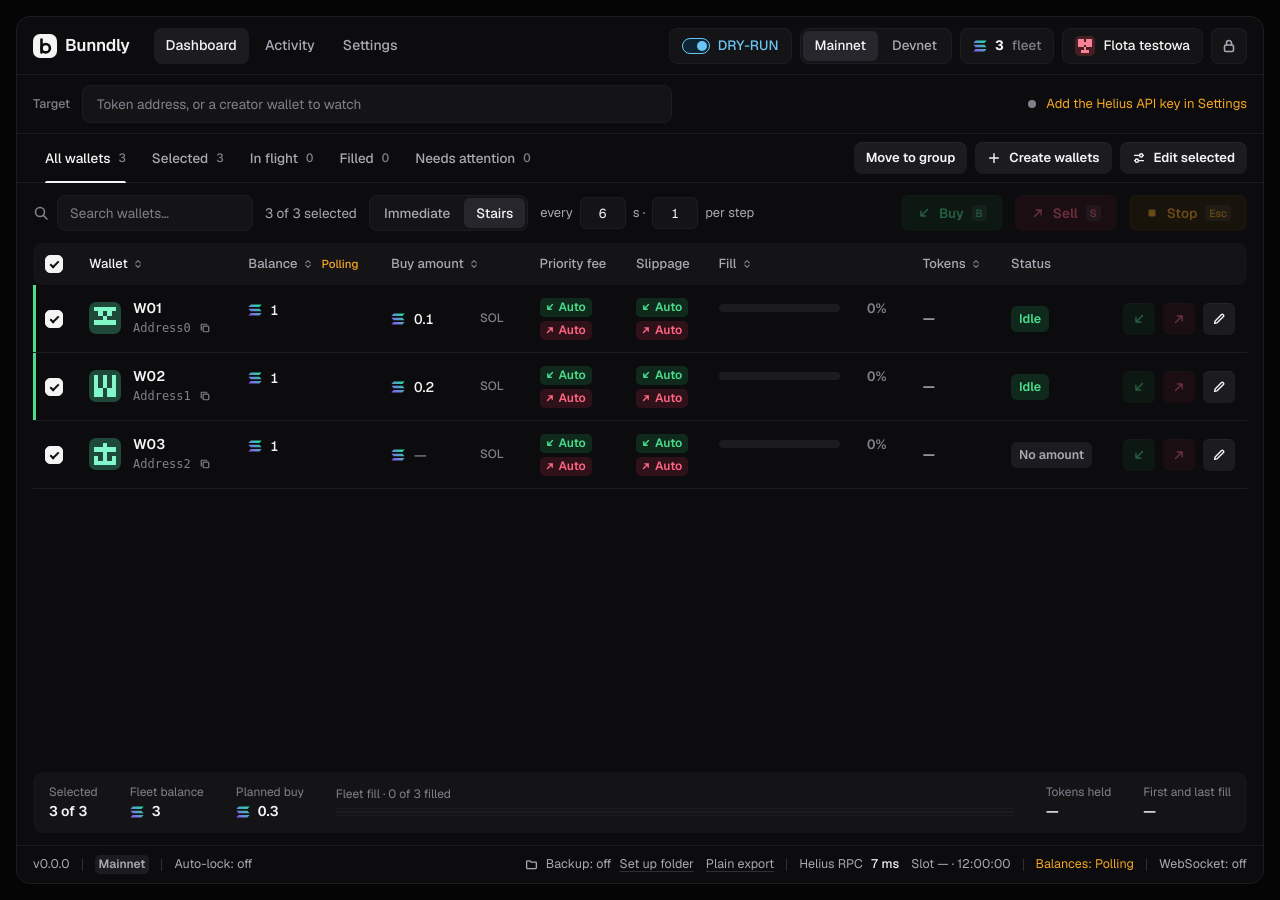
Test case: selection › a wallet that is not selected is not ready and not counted in the planned buy
This screenshot has width=1280, height=900.
Click the checkbox named "Select W02".
click(54, 387)  # box [45,378,63,396]
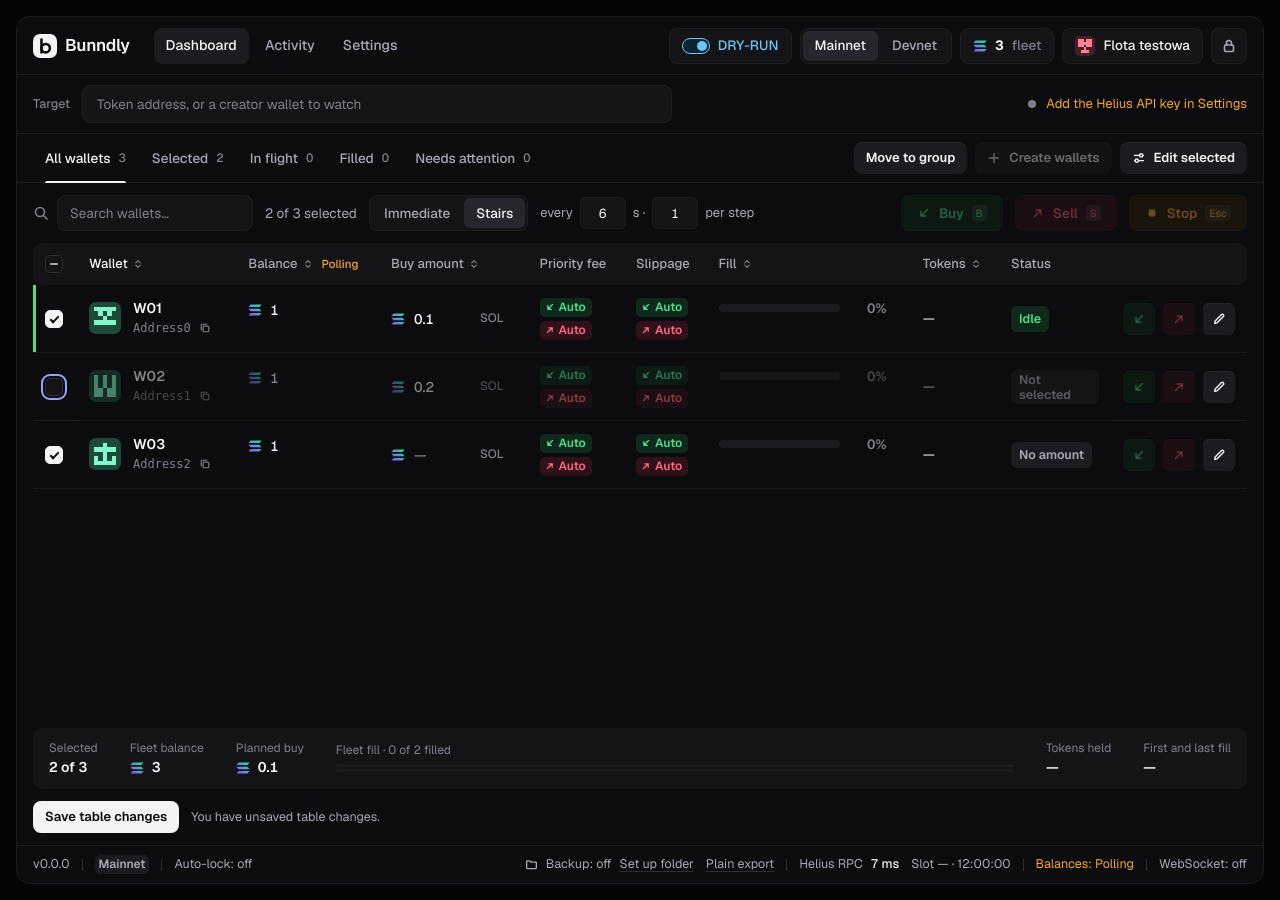
Now the text "2 of 3" is shown, box [49,758,87,776]
